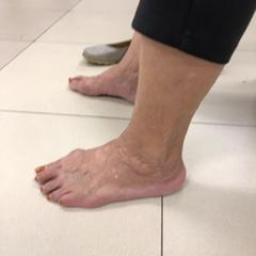Lateral View -Left Foot-: (23, 115, 210, 220)
